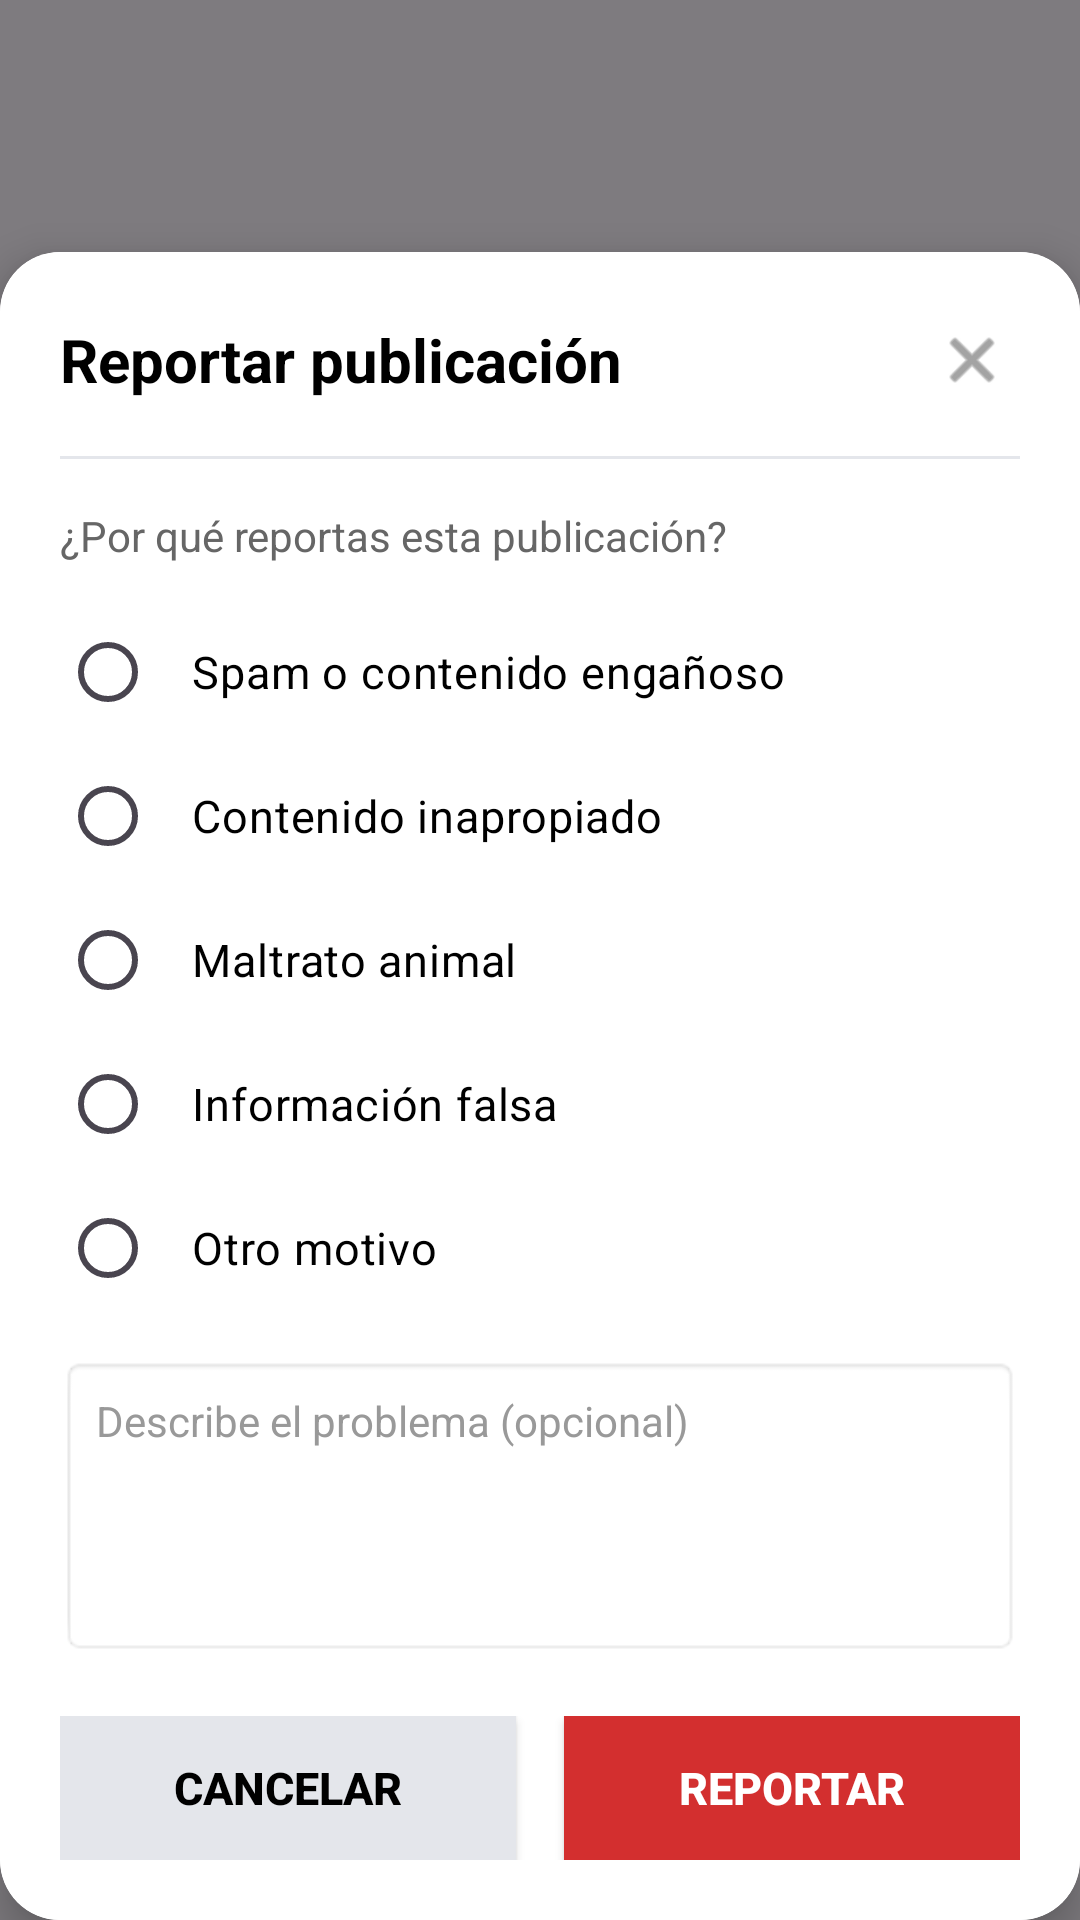

Locate icon controls on the screen. Image size 1080w x 1920h, boxes as (x1, y1, x2, y2).
Cerrar: (950, 338, 994, 382)
